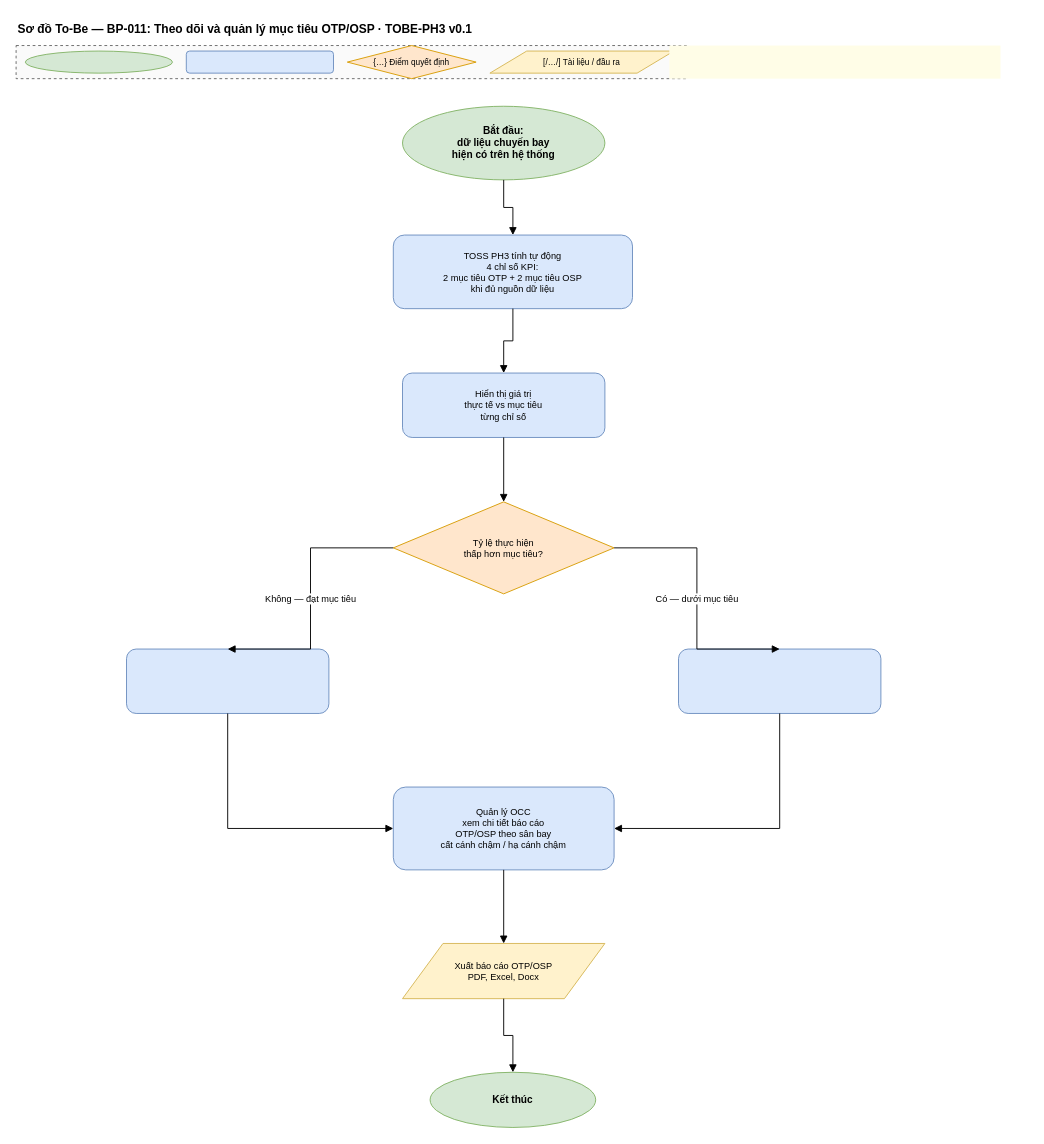
This 1044x1144 diagram has some shape labels left out. Each missing label, with the centre of its shape:
"((…)) Bắt đầu / Kết thúc" belongs at [98,61].
"*(chờ xác nhận — OID: KS-48)* Định nghĩa chi tiết 4 KPI và công thức tính" belongs at [834,61].
"[…] Bước xử lý (activity)" belongs at [259,61].
"Hiển thị trạng thái đạt mục tiêu trên màn báo cáo OTP/OSP" belongs at [227,680].
"TOSS sinh cảnh báo về chỉ số bị thấp" belongs at [779,680].
